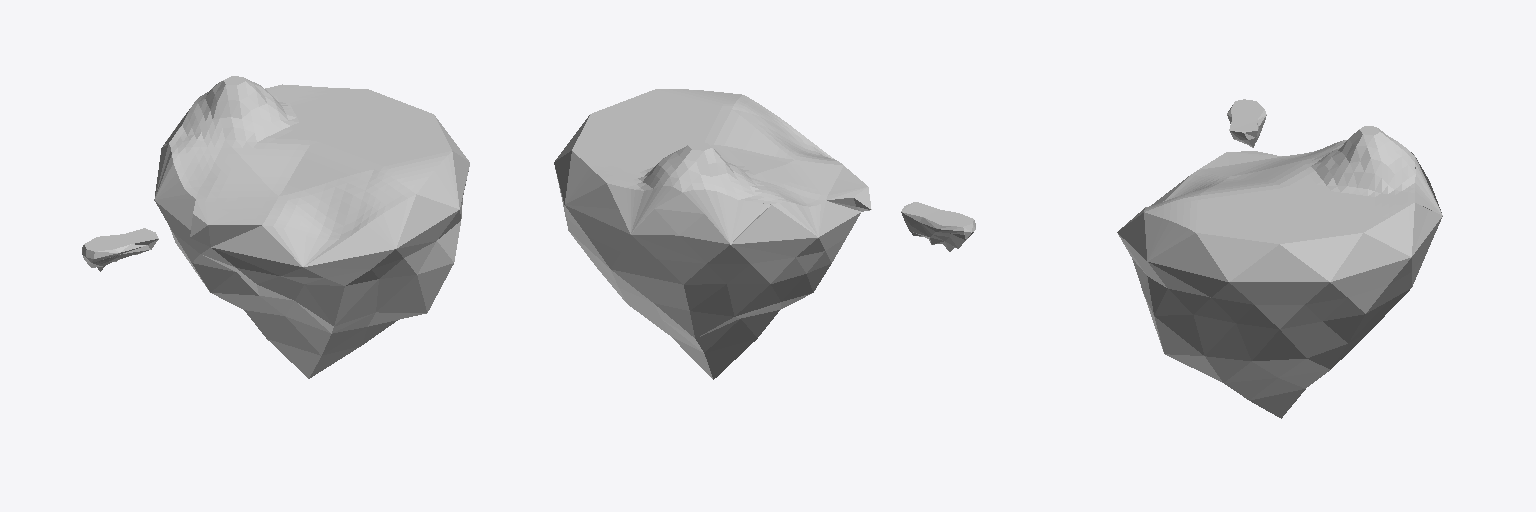
File: island.obj
3 views of the same model, side by side, from view 1: azimuth 30°, elevation 25°; view 2: azimuth 150°, elevation 25°; view 3: azimuth 270°, elevation 25° (orthographic).
Visible parts, largest first — view 1: Icosphere.001; view 2: Icosphere.001; view 3: Icosphere.001.
Part boxes in pixels (left/top/right/bottom): Icosphere.001: left=82, top=76, right=469, bottom=378; Icosphere.001: left=554, top=89, right=975, bottom=379; Icosphere.001: left=1117, top=99, right=1442, bottom=418.
Bounding box in the file's own units: 1602 × 1108 × 1197.